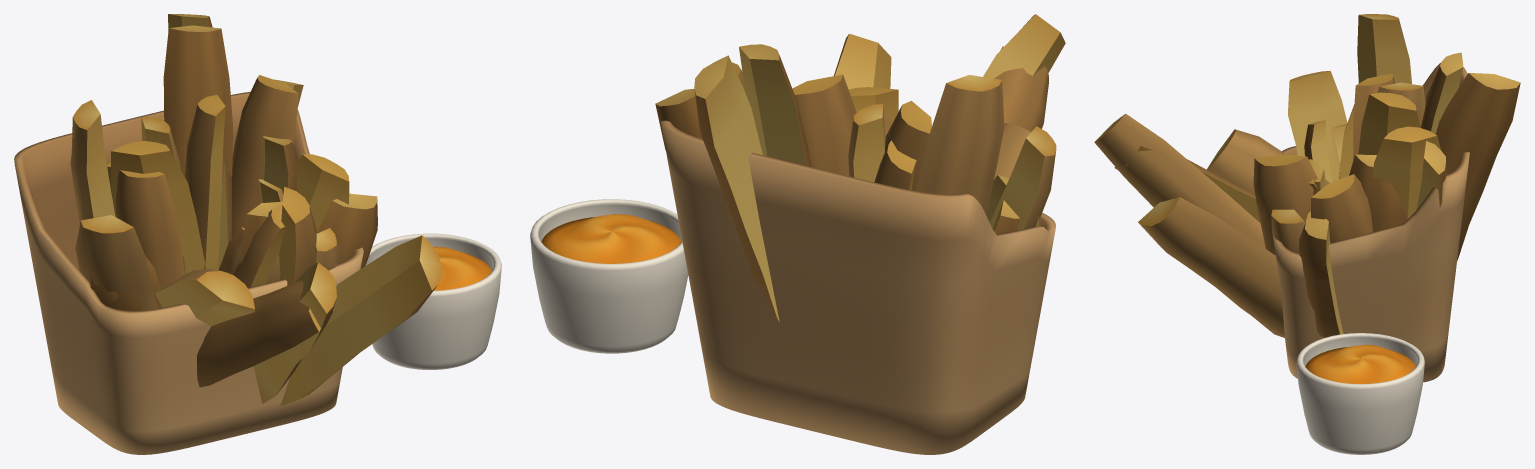
Rendered from porcao-batata.glb.
The picture shows the model from 3 angles, left to right: view 1: azimuth 30°, elevation 25°; view 2: azimuth 150°, elevation 25°; view 3: azimuth 270°, elevation 25°; orthographic projection. The views are drawn at different scales.
Parts seen in each view (by area): view 1: batata_gomos, batata_caixa, batata_pote, batata_molho; view 2: batata_caixa, batata_gomos, batata_pote, batata_molho; view 3: batata_gomos, batata_caixa, batata_pote, batata_molho.
Part boxes in pixels (x1,y1,x2,y2): batata_gomos: [70, 14, 442, 406]; batata_caixa: [14, 91, 363, 454]; batata_pote: [365, 233, 501, 369]; batata_molho: [433, 246, 491, 290]; batata_caixa: [660, 120, 1055, 454]; batata_gomos: [655, 14, 1065, 322]; batata_pote: [530, 199, 688, 353]; batata_molho: [541, 214, 681, 263]; batata_gomos: [1094, 14, 1520, 337]; batata_caixa: [1272, 63, 1469, 382]; batata_pote: [1296, 333, 1424, 454]; batata_molho: [1305, 344, 1415, 383].
Bounding box in the file's own units: 0.1561 × 0.1138 × 0.1494.
